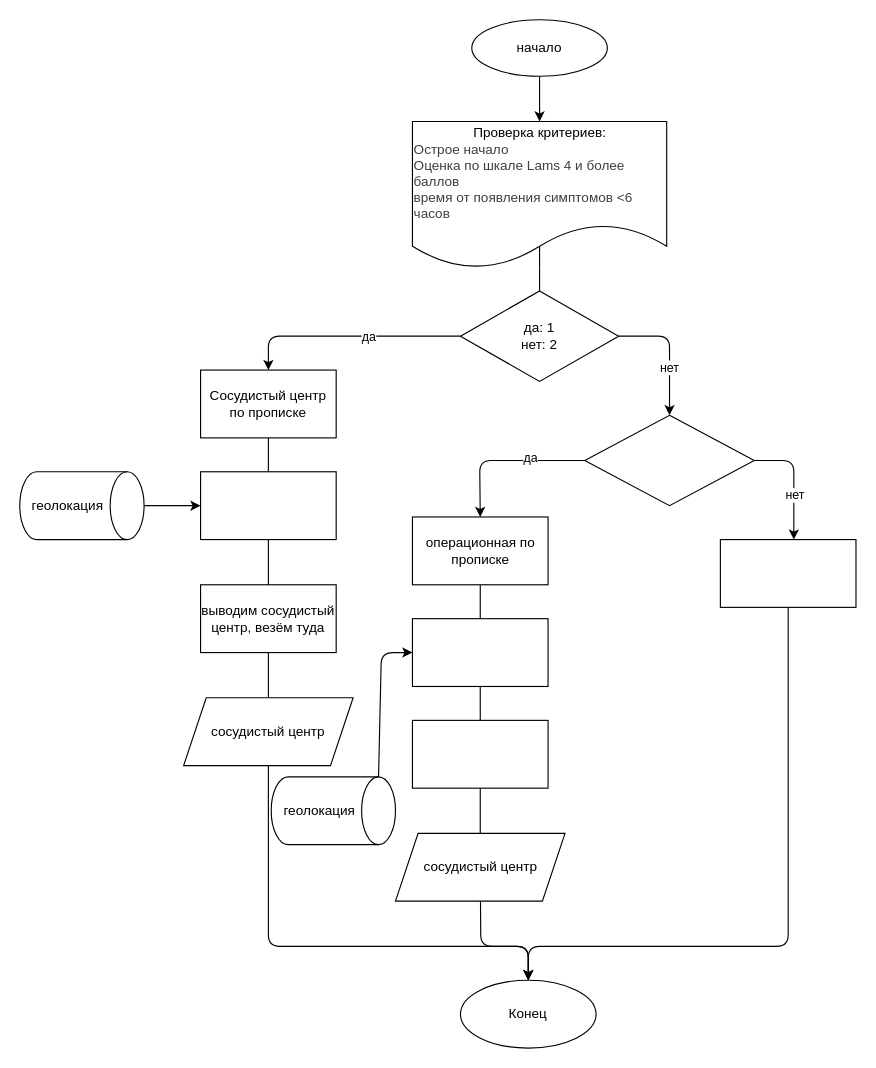
Image size: 876x1068. Some labels were removed from this diagram. The box of each missing label's shape, as (x1, y1, x2, y2) in pixels:
выводим операционную, везём туда: (411, 719, 548, 788)
да: 3 нет: 0: (584, 414, 754, 506)
на усмотрение бригады СМП: (719, 538, 856, 607)
получение операционных: (411, 618, 548, 686)
получение цетров отвечающих за адресс: (199, 471, 336, 540)
